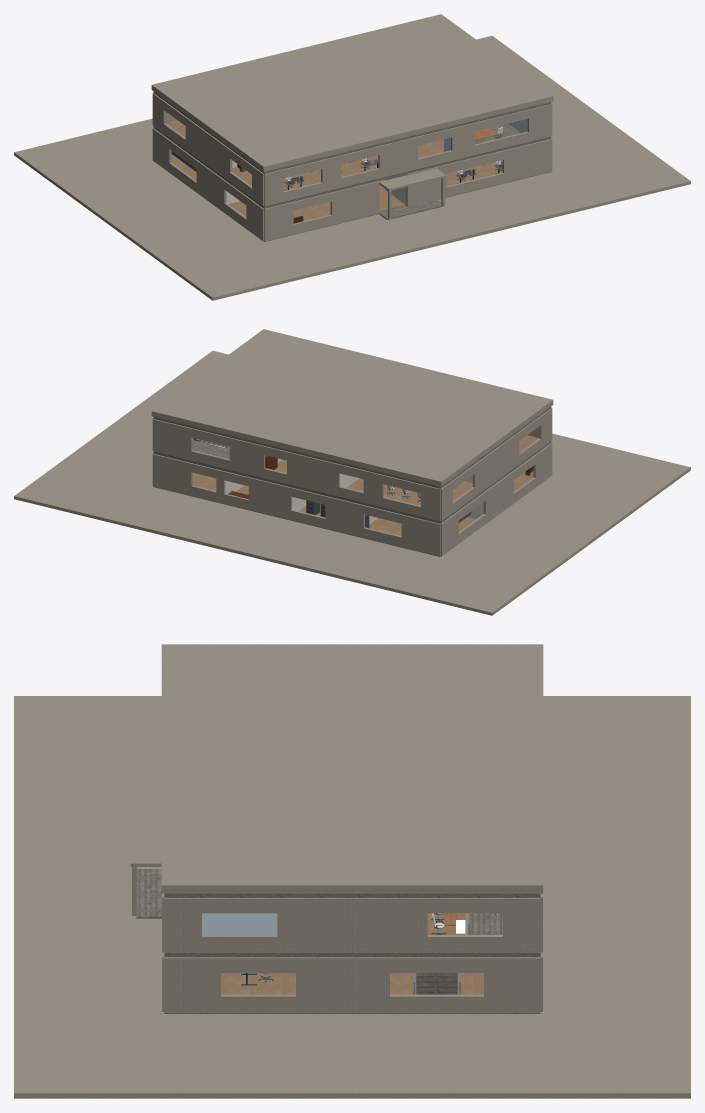
The model's file is office.glb.
The picture shows the model from 3 angles, top to bottom: view 1: azimuth 30°, elevation 25°; view 2: azimuth 150°, elevation 25°; view 3: azimuth 270°, elevation 25°; orthographic projection. The views are drawn at different scales.
Visible parts, largest first — view 1: office_00, office_16; view 2: office_00, office_16; view 3: office_00, office_16.
Part boxes in pixels (box(x1,y1,x2,y2)): office_00: box(14, 36, 690, 300); office_16: box(151, 14, 553, 173); office_00: box(14, 351, 690, 615); office_16: box(151, 329, 553, 488); office_00: box(14, 696, 690, 1098); office_16: box(161, 644, 543, 933).
Size of the model in its own units: 50 by 7.92 by 36.
Materials: 20 (10 with a texture image).
